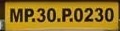character: (9, 7, 24, 22), (83, 6, 94, 22), (61, 7, 72, 22), (73, 6, 83, 22), (104, 7, 114, 23), (24, 7, 34, 22), (36, 7, 46, 22), (46, 7, 56, 22), (94, 7, 104, 22)
